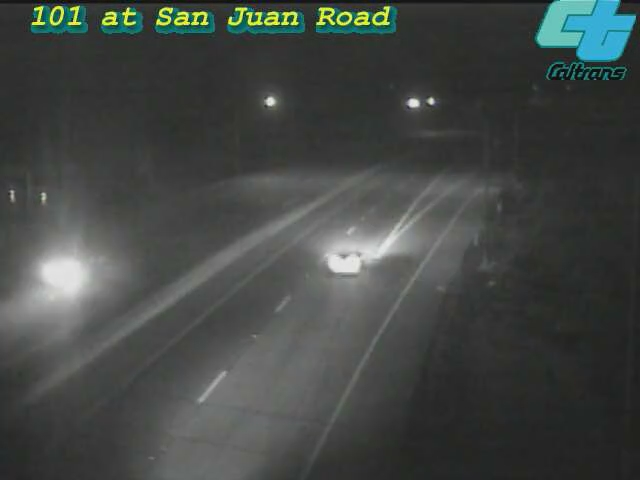vehicle: (25, 235, 105, 315), (308, 221, 388, 301)
